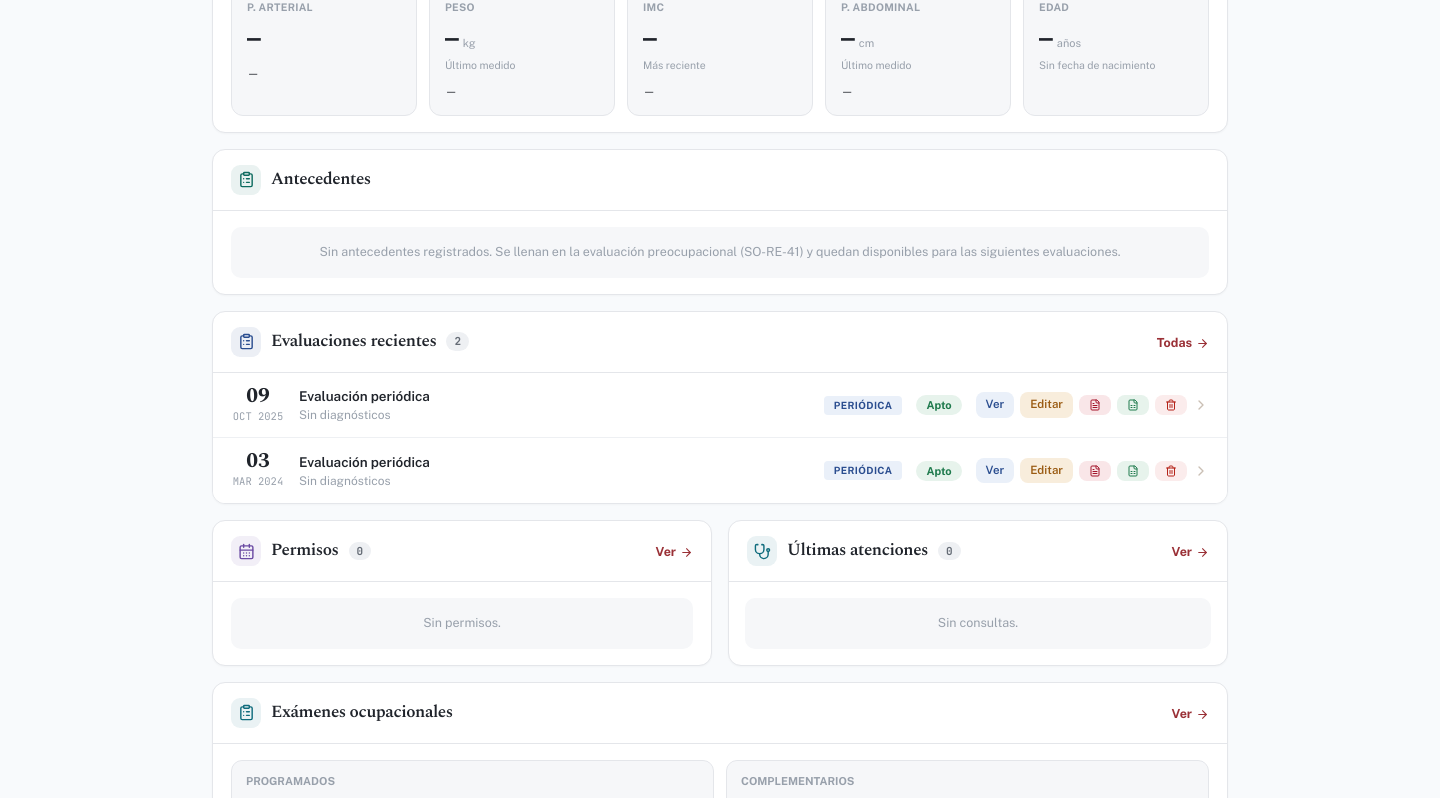
Test: eliminar evaluaciones desde la ficha › desde la fila, tras confirmar, y desaparece de la lista
(page scrolled)
expect the button titled "Ver el detalle" is shown: met, box [231,386,962,424]
Step 1. Click the 1st button titled "Eliminar la evaluación" → {"x": 1171, "y": 405}, box [1155,395,1187,415]
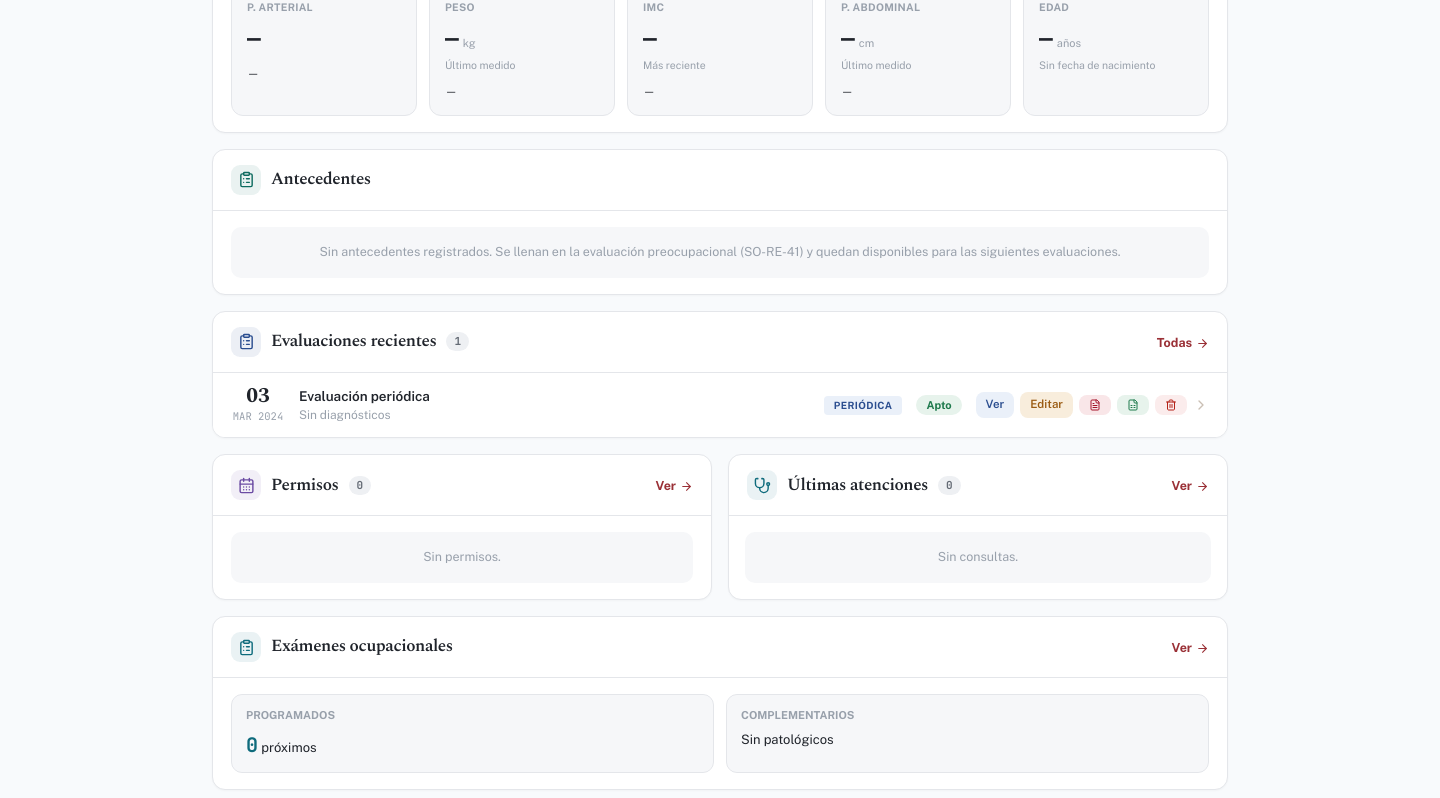
expect the number of buttons titled "Eliminar la evaluación" is 1: met, box [1155,395,1187,415]
